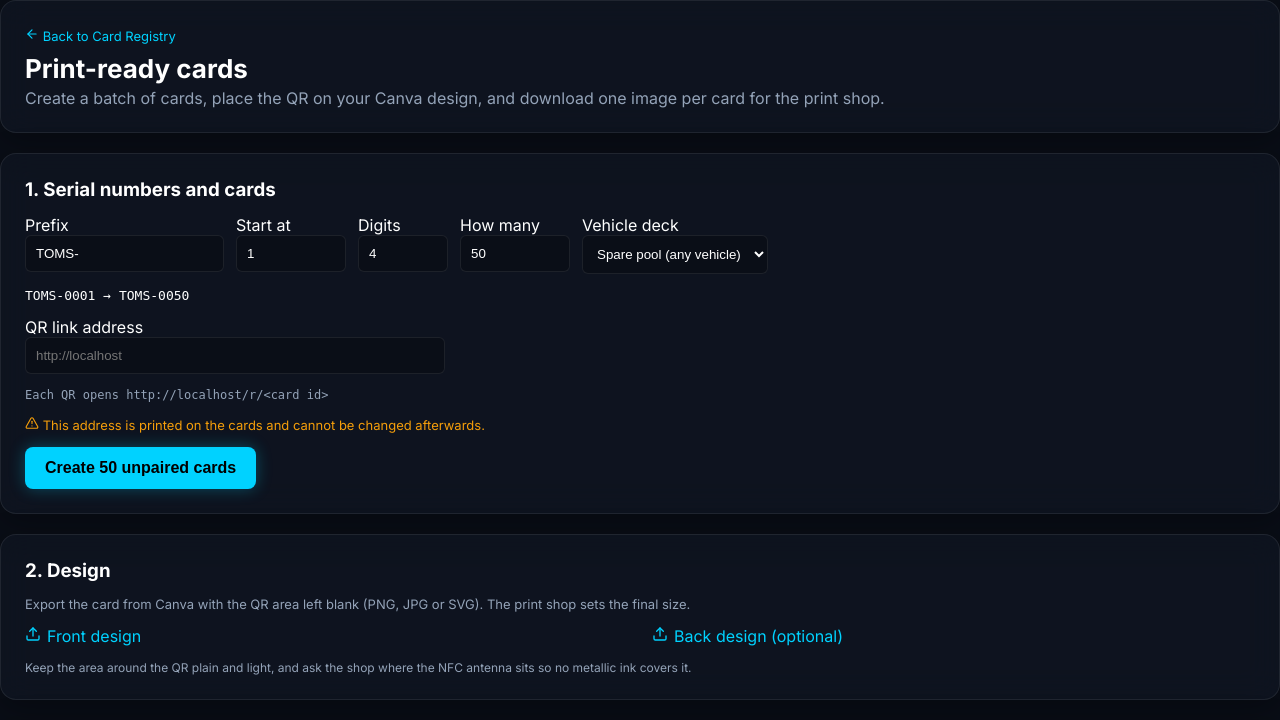
Test case: CardDesigner › creates the batch through the API and reports it
Replace the text in the number field labelled "How many" with "2" at x=515, y=254, box 460,235 -> 570,272
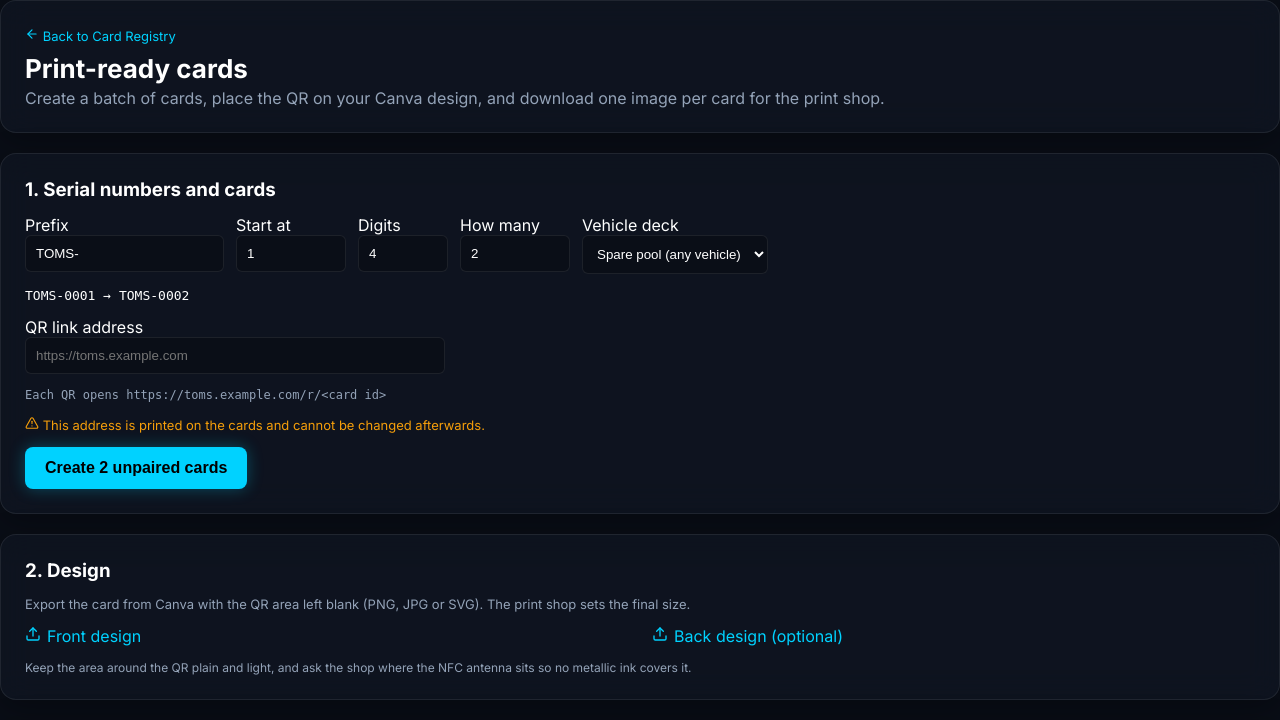
Click the button "Create 2 unpaired cards" at x=136, y=468, box 25,447 -> 247,489
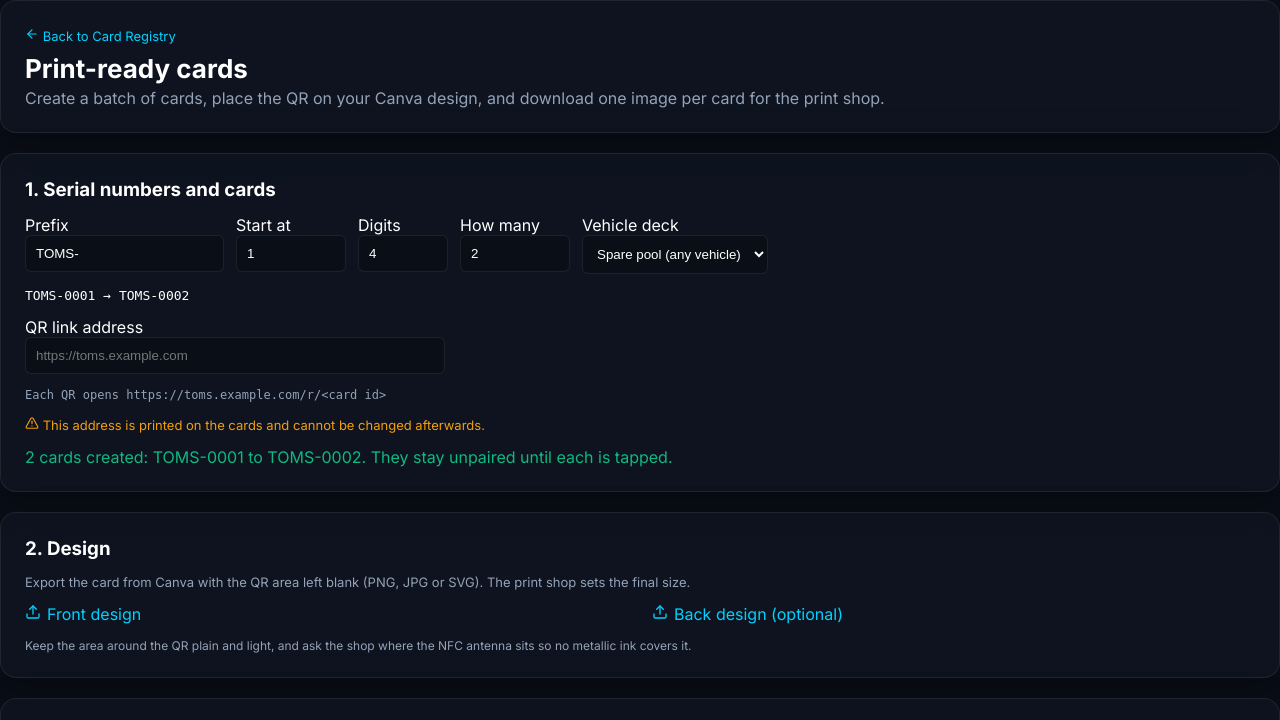
Check: the message shows "2 cards created: TOMS-0001 to TOMS-0002", box 25,447 -> 672,467
